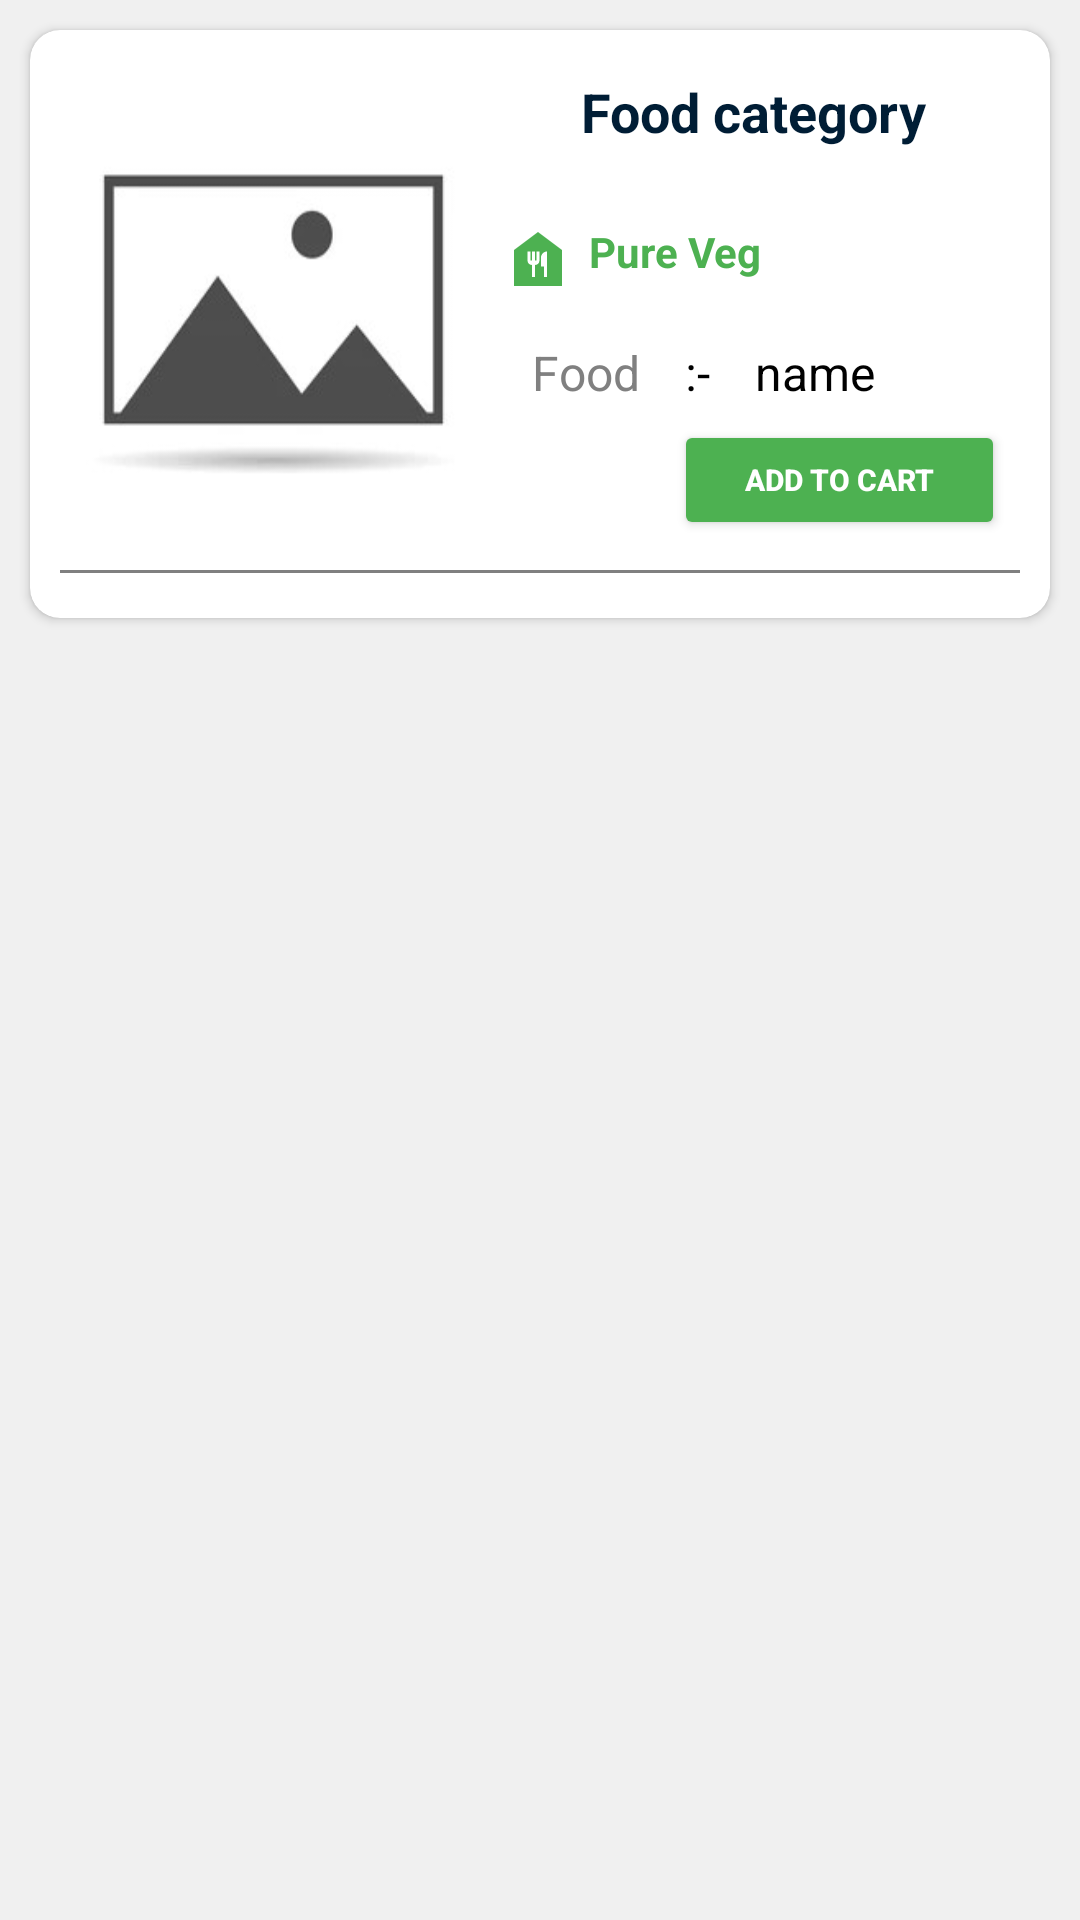

Icon click points for this 1080 × 1920 phone screenshot, format (x=x, y=y):
placeimg: (x=273, y=322)
